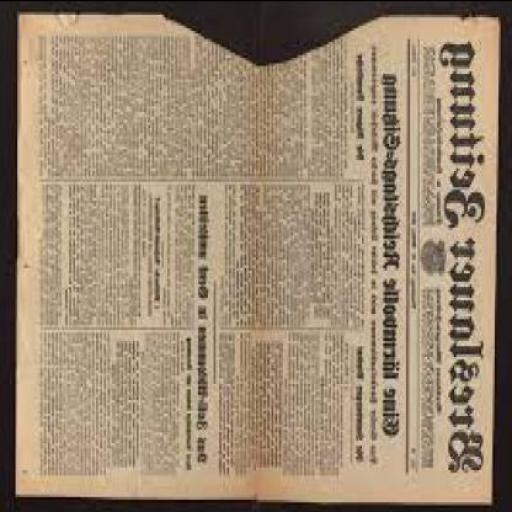paper: (18, 17, 500, 504)
